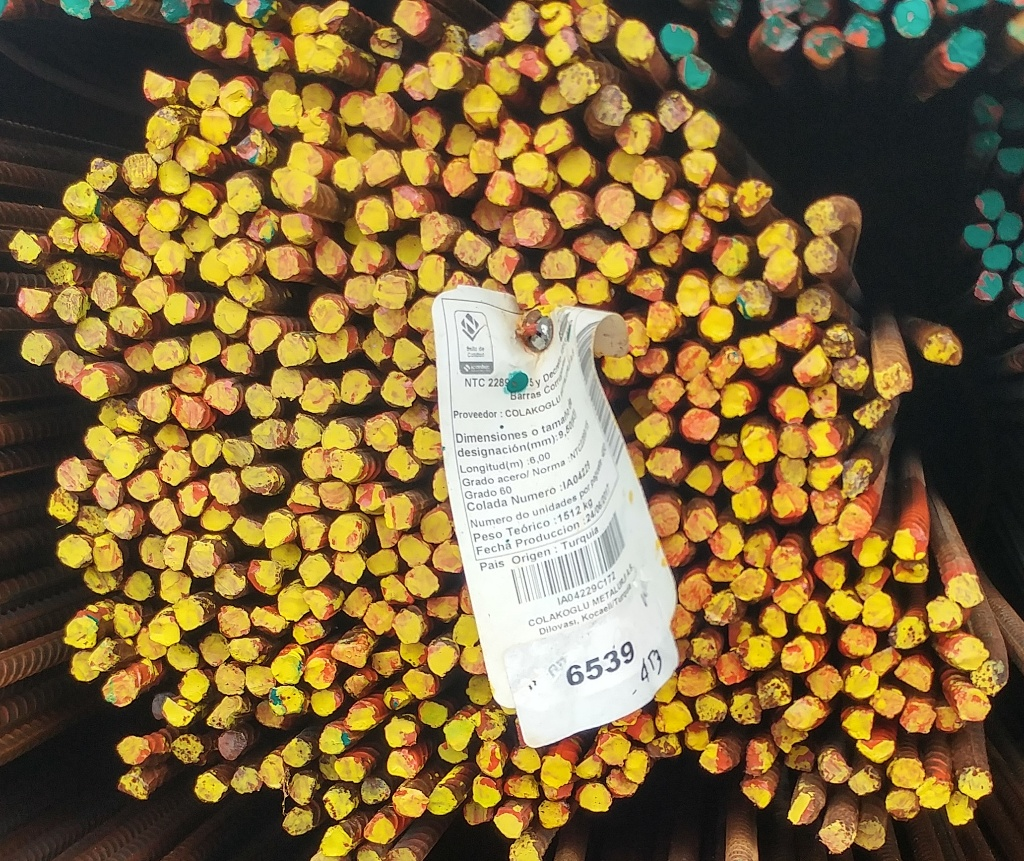dipstick: (757, 242, 804, 292), (797, 21, 845, 69), (939, 25, 986, 71), (737, 421, 787, 464), (229, 120, 276, 165), (732, 173, 777, 220), (248, 26, 292, 73), (460, 83, 507, 127), (642, 299, 691, 341), (270, 166, 321, 206), (593, 182, 634, 231), (803, 192, 846, 238), (613, 16, 655, 63), (224, 169, 263, 219), (501, 1, 545, 45), (218, 236, 263, 279), (678, 145, 720, 191), (174, 133, 221, 174), (674, 268, 712, 318), (652, 90, 696, 133), (943, 567, 987, 610), (791, 343, 836, 385), (678, 109, 724, 150), (236, 205, 283, 245), (293, 103, 337, 145), (709, 232, 751, 276), (549, 190, 594, 231), (396, 145, 438, 188), (921, 326, 965, 367), (767, 315, 820, 349), (503, 44, 550, 82), (262, 242, 305, 283), (651, 190, 692, 233), (735, 277, 776, 320), (771, 381, 812, 424), (513, 204, 553, 248), (596, 242, 636, 286), (769, 542, 809, 586), (118, 147, 157, 192), (841, 12, 886, 51), (804, 236, 845, 278), (786, 786, 828, 827), (555, 143, 595, 186), (757, 14, 801, 53), (138, 66, 185, 102), (357, 325, 398, 366), (645, 373, 686, 414), (532, 116, 574, 156), (113, 765, 156, 804), (612, 110, 651, 153), (705, 345, 744, 388), (407, 105, 445, 149), (675, 407, 724, 441), (72, 361, 113, 401), (374, 270, 415, 310), (218, 77, 258, 118), (804, 414, 845, 454), (510, 151, 552, 190), (592, 85, 631, 127), (887, 2, 929, 41), (102, 437, 140, 480), (185, 537, 223, 580), (617, 212, 660, 250), (697, 306, 740, 344), (769, 485, 812, 523), (957, 760, 995, 803), (413, 252, 450, 296), (495, 118, 532, 162), (876, 358, 913, 402), (556, 64, 601, 100), (356, 191, 391, 237), (308, 295, 348, 335), (482, 55, 522, 95), (61, 180, 102, 219), (417, 505, 458, 544), (185, 71, 224, 112), (544, 27, 585, 66), (574, 2, 613, 43), (893, 655, 934, 694), (400, 59, 438, 101), (775, 421, 817, 459), (816, 816, 858, 854), (312, 233, 348, 277), (630, 156, 666, 200), (771, 578, 815, 614), (212, 562, 252, 601), (389, 780, 429, 819), (681, 458, 721, 497), (180, 213, 218, 254), (157, 447, 195, 488), (361, 89, 399, 130), (310, 35, 351, 73), (661, 21, 702, 59), (708, 522, 746, 563), (6, 225, 43, 267), (756, 219, 798, 256), (795, 287, 837, 324), (132, 272, 167, 316), (240, 463, 284, 498), (736, 333, 780, 368), (726, 488, 770, 523), (100, 670, 139, 709), (12, 283, 52, 321), (246, 555, 284, 595), (379, 372, 419, 410), (268, 88, 308, 126), (634, 410, 674, 448), (683, 502, 721, 542), (328, 512, 365, 553), (342, 124, 383, 161), (574, 269, 615, 306), (698, 741, 740, 777), (427, 53, 469, 89), (537, 278, 579, 314), (924, 597, 966, 633), (483, 169, 521, 208), (951, 685, 990, 723), (244, 315, 281, 355), (199, 107, 236, 147), (362, 149, 402, 186), (704, 269, 744, 306), (836, 503, 873, 543), (892, 525, 932, 562), (852, 564, 892, 601), (284, 138, 326, 173), (455, 229, 490, 271), (444, 117, 479, 159), (216, 18, 251, 60), (676, 55, 718, 90), (887, 615, 929, 650), (227, 276, 270, 310), (113, 733, 156, 767), (601, 146, 644, 180), (679, 208, 713, 251), (599, 352, 642, 386), (822, 586, 865, 620), (948, 635, 991, 669), (769, 717, 813, 750), (384, 445, 422, 483), (342, 273, 380, 311), (349, 236, 387, 274), (469, 194, 507, 232), (672, 343, 710, 381), (807, 456, 845, 494), (806, 487, 844, 525), (56, 455, 93, 494), (334, 89, 371, 128), (677, 574, 714, 613), (155, 567, 195, 603), (275, 583, 311, 623), (281, 211, 321, 247), (739, 633, 779, 669), (111, 195, 146, 236), (55, 533, 96, 568), (296, 78, 337, 113), (485, 245, 520, 286), (614, 315, 649, 356), (902, 696, 937, 737), (467, 21, 509, 55), (785, 695, 827, 729), (841, 456, 872, 502), (654, 699, 697, 732), (625, 269, 669, 301), (363, 414, 401, 451), (821, 322, 859, 359), (843, 661, 881, 698), (886, 754, 924, 791), (16, 330, 55, 366), (330, 155, 366, 194), (644, 445, 683, 481), (649, 500, 685, 539), (796, 598, 832, 637), (275, 331, 315, 366), (422, 638, 457, 678), (410, 423, 445, 463), (187, 14, 222, 54), (538, 79, 578, 114), (715, 382, 755, 417), (109, 597, 143, 638), (570, 231, 611, 265), (838, 622, 879, 656), (257, 70, 299, 103), (830, 355, 872, 388), (288, 413, 325, 450), (846, 758, 883, 795), (44, 486, 80, 524), (89, 534, 125, 572), (331, 635, 369, 671), (740, 775, 778, 811), (214, 295, 249, 334), (298, 378, 333, 417), (440, 156, 475, 195), (703, 588, 738, 627), (850, 531, 889, 566), (165, 289, 199, 329), (965, 91, 1005, 125), (277, 804, 318, 837), (477, 739, 510, 780), (536, 797, 577, 830), (716, 459, 761, 489), (90, 269, 122, 311), (167, 363, 209, 395), (264, 506, 296, 548), (380, 747, 422, 779), (742, 529, 774, 571), (197, 632, 233, 669), (360, 807, 396, 844), (390, 184, 427, 220), (367, 24, 404, 60), (969, 659, 1006, 695), (173, 393, 208, 431), (252, 416, 290, 451), (284, 480, 322, 515), (170, 733, 208, 768), (576, 779, 614, 814), (392, 1, 430, 36), (808, 380, 843, 418), (780, 634, 815, 672), (807, 665, 842, 703), (354, 477, 388, 516), (399, 667, 438, 701), (537, 751, 571, 790), (596, 730, 630, 769), (697, 185, 731, 224), (757, 677, 796, 711), (205, 377, 238, 417), (315, 330, 355, 363), (381, 717, 421, 750), (290, 32, 320, 76), (538, 247, 578, 280), (931, 701, 971, 734), (854, 735, 901, 763), (156, 239, 188, 280), (393, 403, 434, 435), (172, 597, 208, 633), (62, 614, 98, 650), (84, 154, 119, 191), (46, 216, 81, 253), (137, 385, 172, 422), (83, 425, 120, 460), (316, 477, 353, 512), (123, 568, 160, 603), (648, 233, 685, 268), (155, 161, 193, 195), (339, 367, 373, 405), (148, 610, 182, 648), (395, 233, 429, 271), (469, 138, 503, 176), (730, 567, 768, 601), (601, 768, 644, 798), (191, 770, 230, 803), (369, 648, 408, 681), (377, 573, 416, 606), (403, 565, 442, 598), (371, 305, 410, 338), (620, 747, 652, 787), (690, 691, 730, 723), (430, 777, 461, 818), (248, 603, 289, 634), (50, 287, 86, 322), (144, 108, 180, 143), (244, 382, 279, 418), (296, 511, 326, 553), (431, 541, 466, 577), (344, 211, 380, 246), (771, 454, 807, 489), (51, 348, 85, 385), (120, 244, 154, 281), (146, 197, 183, 231), (318, 823, 355, 857), (214, 604, 251, 638), (438, 716, 475, 750), (811, 524, 848, 558), (728, 690, 762, 727), (918, 776, 952, 813), (199, 250, 232, 288), (321, 784, 359, 817), (392, 607, 425, 645), (365, 546, 404, 578), (679, 663, 718, 695), (342, 700, 382, 731), (971, 191, 1012, 221), (189, 330, 224, 365), (218, 341, 253, 376), (146, 498, 181, 533), (87, 637, 122, 672), (78, 220, 112, 256), (213, 663, 249, 697), (492, 809, 528, 843), (389, 337, 425, 371), (318, 1, 352, 37), (758, 603, 792, 639), (718, 650, 752, 686), (369, 515, 406, 548), (860, 590, 893, 627), (861, 647, 903, 676), (109, 305, 147, 337), (322, 419, 360, 451), (383, 492, 415, 530), (240, 101, 278, 133), (285, 4, 323, 36), (636, 345, 674, 377), (852, 398, 890, 430), (840, 706, 878, 738), (177, 667, 208, 706), (266, 684, 305, 715), (160, 531, 190, 571), (418, 210, 448, 250), (497, 209, 527, 249), (73, 316, 108, 350), (269, 367, 304, 401), (332, 550, 366, 585), (258, 751, 287, 792), (206, 472, 242, 505), (232, 515, 265, 551), (215, 729, 251, 762), (362, 599, 395, 635), (175, 482, 207, 519), (220, 435, 257, 467), (164, 640, 201, 672), (472, 772, 503, 810), (431, 24, 469, 55), (451, 612, 481, 651), (979, 243, 1018, 273), (503, 773, 543, 802), (163, 694, 197, 728), (243, 661, 277, 695), (304, 655, 338, 689), (357, 773, 391, 807), (299, 446, 332, 481), (320, 721, 353, 756), (287, 772, 320, 807), (208, 202, 240, 238), (190, 431, 222, 467), (292, 616, 328, 648), (854, 816, 886, 852), (972, 268, 1004, 304), (154, 422, 191, 453), (92, 472, 123, 509), (458, 645, 495, 676), (818, 748, 849, 785), (333, 754, 371, 784), (181, 182, 214, 216), (128, 469, 162, 502), (134, 627, 168, 660), (813, 556, 846, 590), (298, 553, 330, 588), (685, 375, 720, 407), (658, 534, 693, 566), (890, 557, 930, 585), (945, 792, 977, 827), (309, 688, 345, 719), (465, 673, 496, 709), (688, 634, 719, 670), (710, 432, 748, 461), (512, 269, 538, 311), (280, 736, 313, 769), (301, 586, 334, 619), (510, 743, 543, 776), (268, 653, 302, 685), (539, 3, 573, 35), (74, 503, 109, 534), (397, 535, 432, 566), (643, 734, 683, 761), (140, 532, 169, 569), (375, 59, 404, 96), (857, 561, 894, 590), (122, 341, 155, 373), (475, 710, 507, 743), (153, 337, 184, 371), (67, 649, 98, 683), (411, 362, 438, 401), (743, 738, 770, 777), (726, 618, 761, 648), (226, 635, 263, 663), (408, 294, 436, 331), (705, 558, 746, 583), (231, 765, 264, 796), (871, 686, 902, 719), (330, 451, 365, 480), (81, 567, 118, 594), (253, 696, 283, 729), (504, 835, 542, 861), (44, 259, 78, 288), (967, 127, 1002, 155), (436, 742, 475, 767), (140, 223, 170, 255), (625, 714, 657, 744), (683, 719, 713, 751), (342, 586, 371, 619), (426, 595, 460, 623), (118, 401, 145, 436), (429, 465, 454, 502), (104, 505, 137, 533), (417, 701, 450, 729), (268, 544, 302, 571), (342, 673, 378, 698), (994, 210, 1022, 242), (963, 221, 994, 249), (397, 641, 430, 667), (462, 800, 495, 826), (785, 745, 814, 774), (142, 139, 177, 163), (99, 398, 125, 429), (199, 504, 233, 527), (577, 753, 607, 779), (149, 691, 174, 721), (999, 144, 1024, 173)
